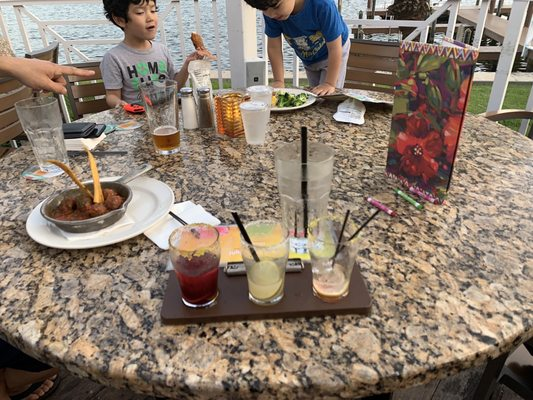salad: (231, 211, 261, 264)
sushi: (42, 181, 132, 233)
